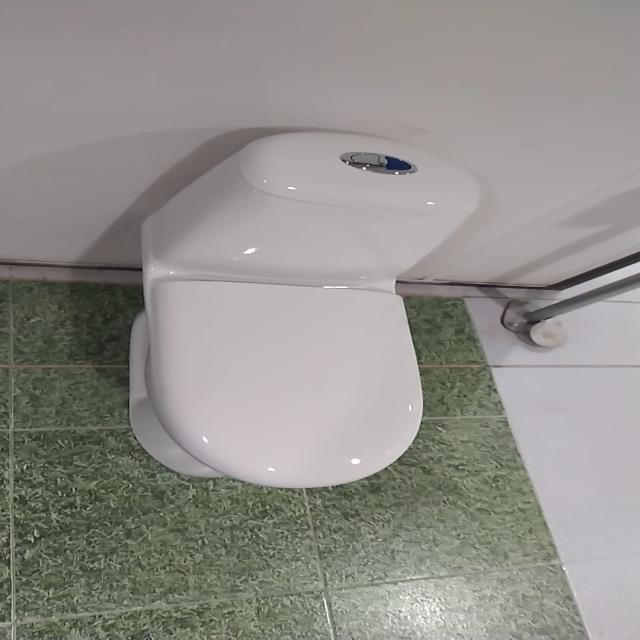toilet: (127, 130, 482, 489)
